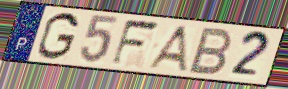2: (226, 29, 273, 83)
5: (77, 14, 120, 66)
A: (144, 24, 190, 74)
B: (186, 26, 235, 77)
F: (108, 18, 162, 68)
G: (35, 11, 82, 61)
